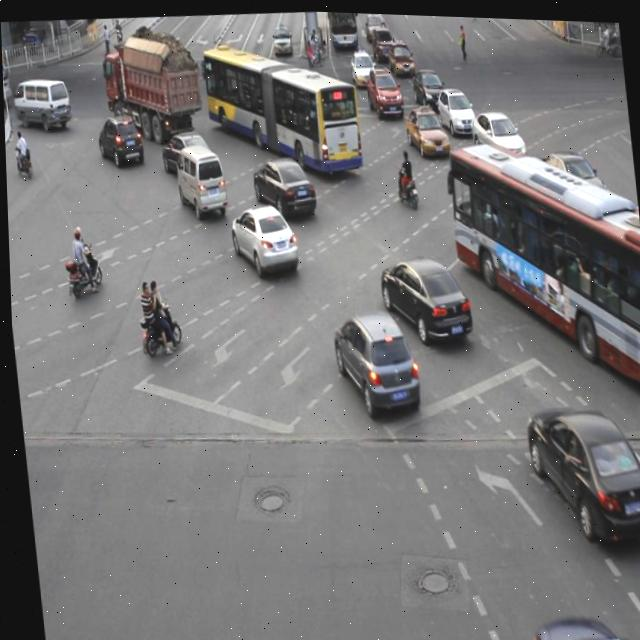bus: (100, 44, 204, 144)
car: (520, 394, 640, 543), (328, 303, 419, 416), (374, 248, 471, 343), (225, 196, 298, 277), (534, 142, 610, 213), (248, 149, 316, 219), (488, 154, 547, 214), (157, 125, 216, 183), (467, 103, 524, 160), (94, 110, 145, 169), (403, 99, 448, 156), (433, 80, 476, 134)
truck: (172, 138, 227, 214)
van: (443, 127, 640, 396), (200, 34, 362, 179)
